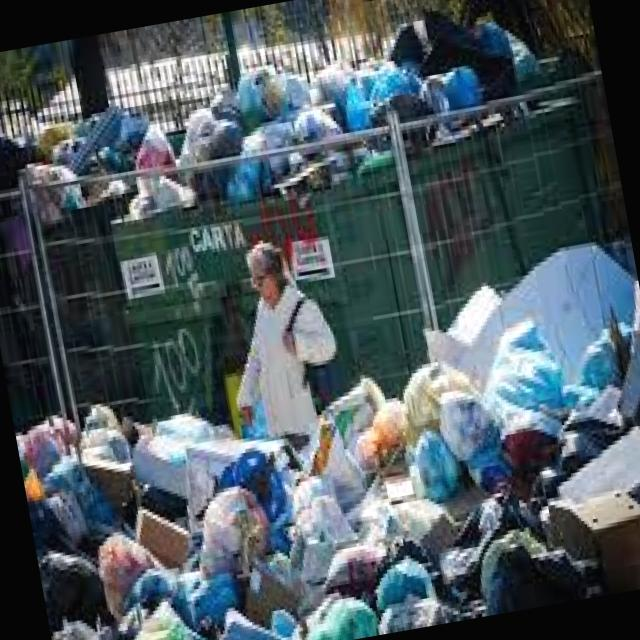garbage: (13, 298, 640, 640), (0, 24, 520, 240)
